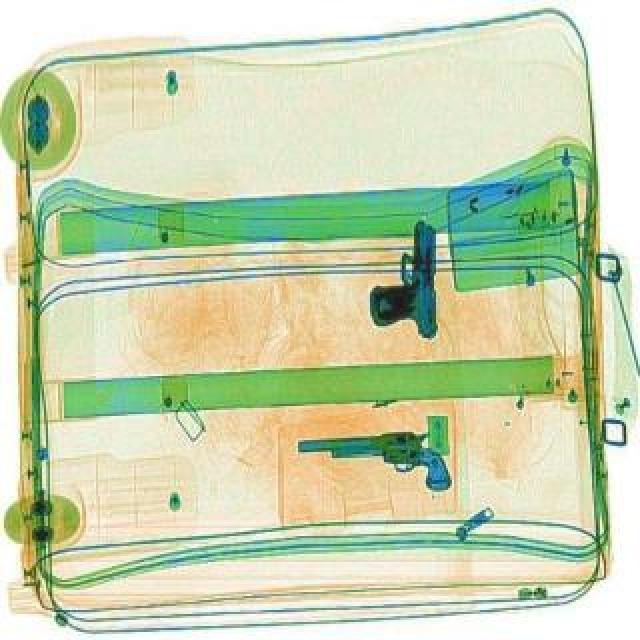gun: (294, 424, 452, 500), (366, 218, 440, 338)
